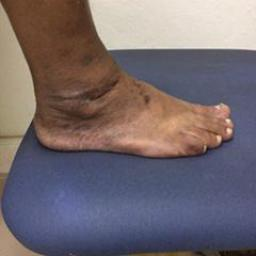Lateral View -Right Foot-: (22, 50, 239, 169)
